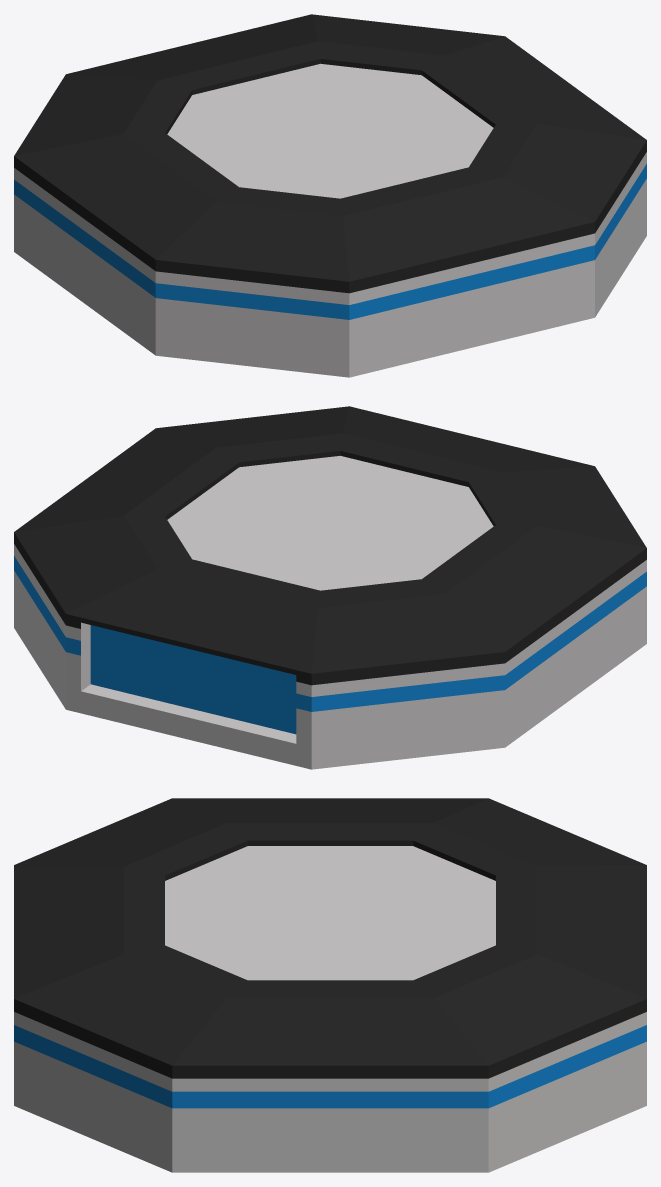
The model's file is Radiator.fbx.
3 views of the same model, one above another, from view 1: azimuth 30°, elevation 25°; view 2: azimuth 150°, elevation 25°; view 3: azimuth 270°, elevation 25° (orthographic). The views are drawn at different scales.
Visible parts, largest first — view 1: Radiator; view 2: Radiator; view 3: Radiator.
Part boxes in pixels (left/top/right/bottom): Radiator: left=14, top=14, right=646, bottom=377; Radiator: left=14, top=406, right=646, bottom=769; Radiator: left=14, top=798, right=646, bottom=1172.
Bounding box in the file's own units: 9.1 × 2.04 × 9.1.
